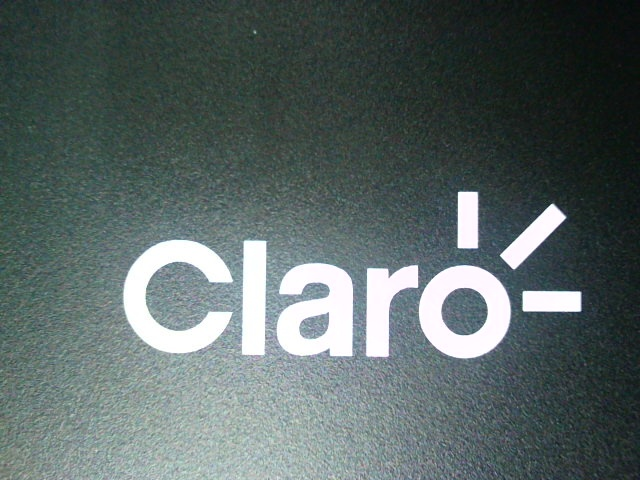BC_Claor: (90, 166, 591, 366)
